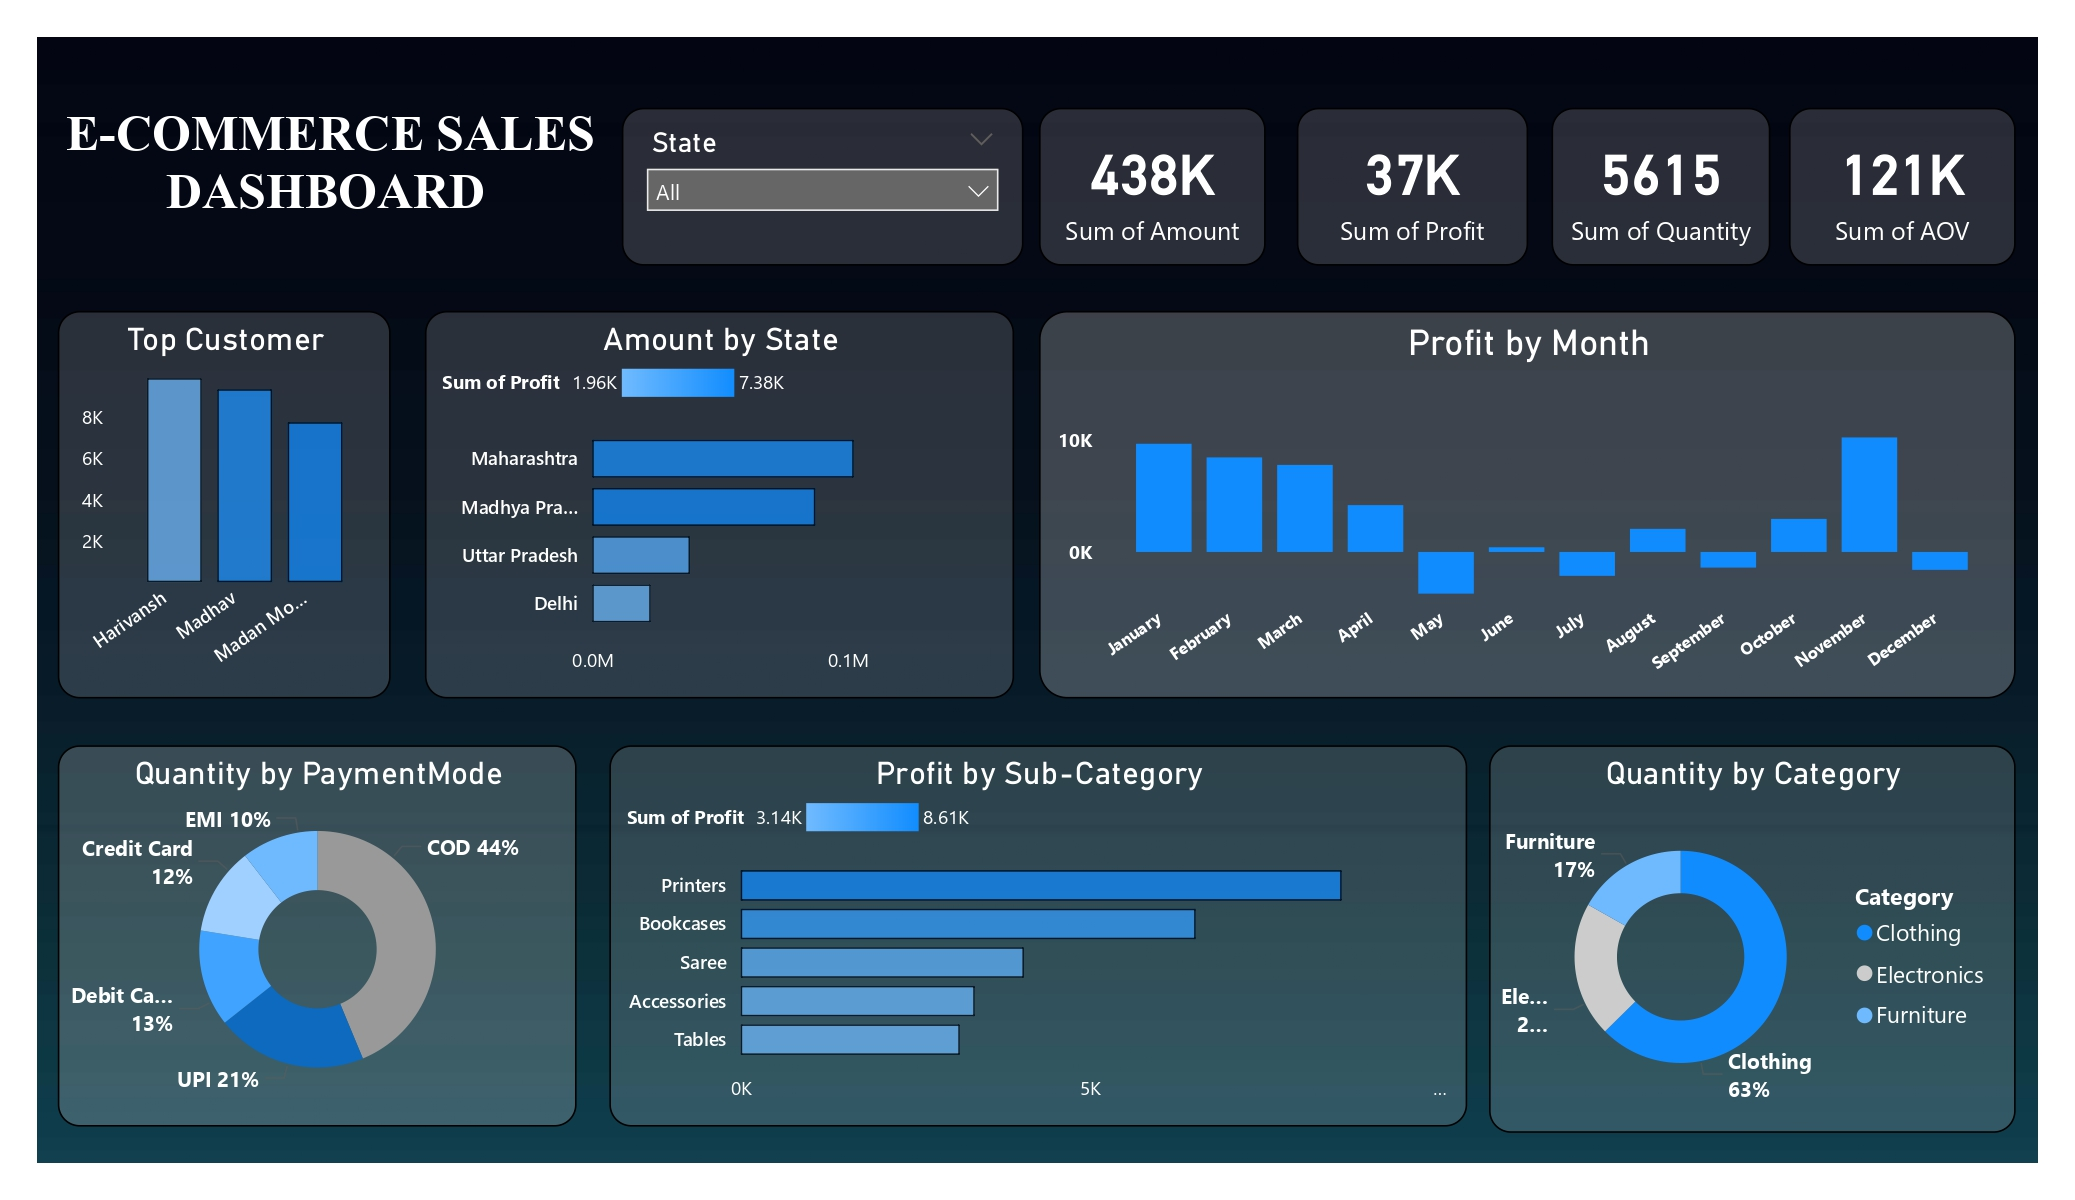

Layout of this report page (visuals, bound fields, positions):
{"tool":"powerbi","page":{"name":"Page 1","canvas":[1280,720],"ordinal":0},"visuals":[{"type":"textbox","box":[12.7,20.7,353.1,125.7],"z":0},{"type":"columnChart","title":"Profit by Month","fields":{"Category":["Orders.Order Date.Variation.Date Hierarchy.Month"],"Y":["Details.Profit"]},"box":[641,175,625.1,248.1],"z":1000},{"type":"barChart","title":"Profit by Sub-Category","fields":{"Category":["Details.Sub-Category"],"Y":["Details.Profit"]},"box":[365.8,453.3,548.8,243.4],"z":2000},{"type":"donutChart","title":"Quantity by Category","fields":{"Y":["Details.Quantity"],"Category":["Details.Category"]},"box":[928.9,453.3,337.2,248.1],"z":3000},{"type":"donutChart","title":"Quantity by PaymentMode","fields":{"Y":["Details.Quantity"],"Category":["Details.PaymentMode"]},"box":[12.7,453.3,332.4,243.4],"z":4000},{"type":"card","fields":{"Values":["Details.Amount"]},"box":[641,44.5,144.7,101.8],"z":5000},{"type":"card","fields":{"Values":["Details.Profit"]},"box":[806.4,44.5,147.9,101.8],"z":6000},{"type":"card","fields":{"Values":["Details.Quantity"]},"box":[968.7,44.5,140,101.8],"z":7000},{"type":"card","fields":{"Values":["Details.AOV"]},"box":[1121.4,44.5,144.7,101.8],"z":8000},{"type":"barChart","title":"Amount by State","fields":{"Category":["Orders.State"],"Y":["Details.Amount"]},"box":[248.1,175,377,248.1],"z":9000},{"type":"lineStackedColumnComboChart","title":"Top Customer","fields":{"Category":["Orders.CustomerName"],"Y":["Details.Amount"]},"box":[12.7,175,213.1,248.1],"z":10000},{"type":"slicer","fields":{"Values":["Orders.State"]},"box":[373.8,44.5,257.7,101.8],"z":11000}]}

Visuals, with their boxes on the page's 1280x720 design canvas (x1, y1, x2, y2). These are canvas units, not pixel positions in the 2075x1200 screenshot, which may show the page scaled, cropped or inside an application window:
textbox: Rect(13, 21, 366, 146)
"Profit by Month" columnChart: Rect(641, 175, 1266, 423)
"Profit by Sub-Category" barChart: Rect(366, 453, 915, 697)
"Quantity by Category" donutChart: Rect(929, 453, 1266, 701)
"Quantity by PaymentMode" donutChart: Rect(13, 453, 345, 697)
card - Details.Amount: Rect(641, 44, 786, 146)
card - Details.Profit: Rect(806, 44, 954, 146)
card - Details.Quantity: Rect(969, 44, 1109, 146)
card - Details.AOV: Rect(1121, 44, 1266, 146)
"Amount by State" barChart: Rect(248, 175, 625, 423)
"Top Customer" lineStackedColumnComboChart: Rect(13, 175, 226, 423)
slicer - Orders.State: Rect(374, 44, 632, 146)
